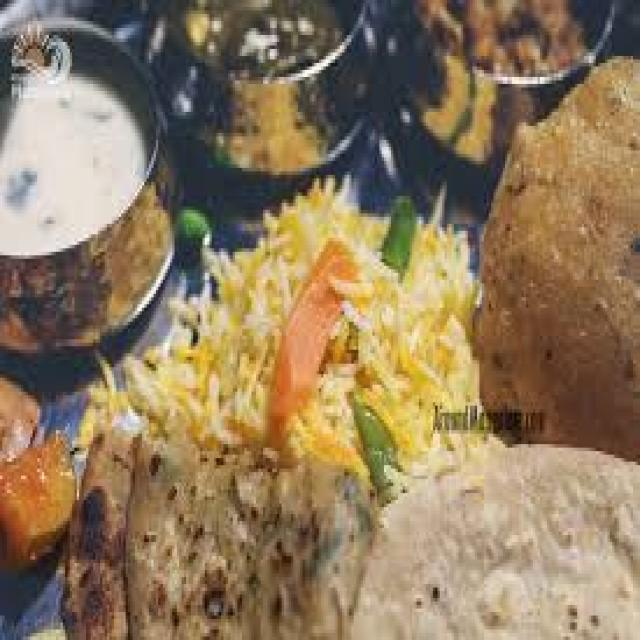papad: (469, 62, 638, 463)
pickle: (1, 360, 79, 586)
raita: (0, 47, 167, 228)
rice: (125, 191, 475, 458)
veg-fry: (443, 0, 612, 98)
